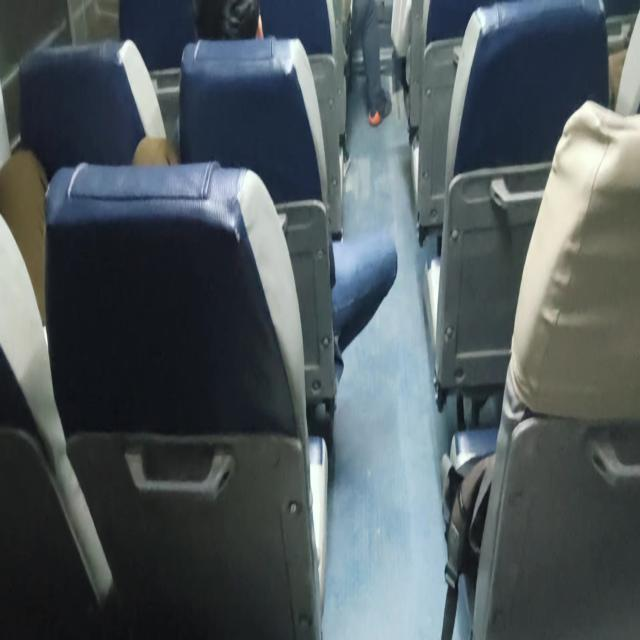person: (192, 0, 268, 44)
